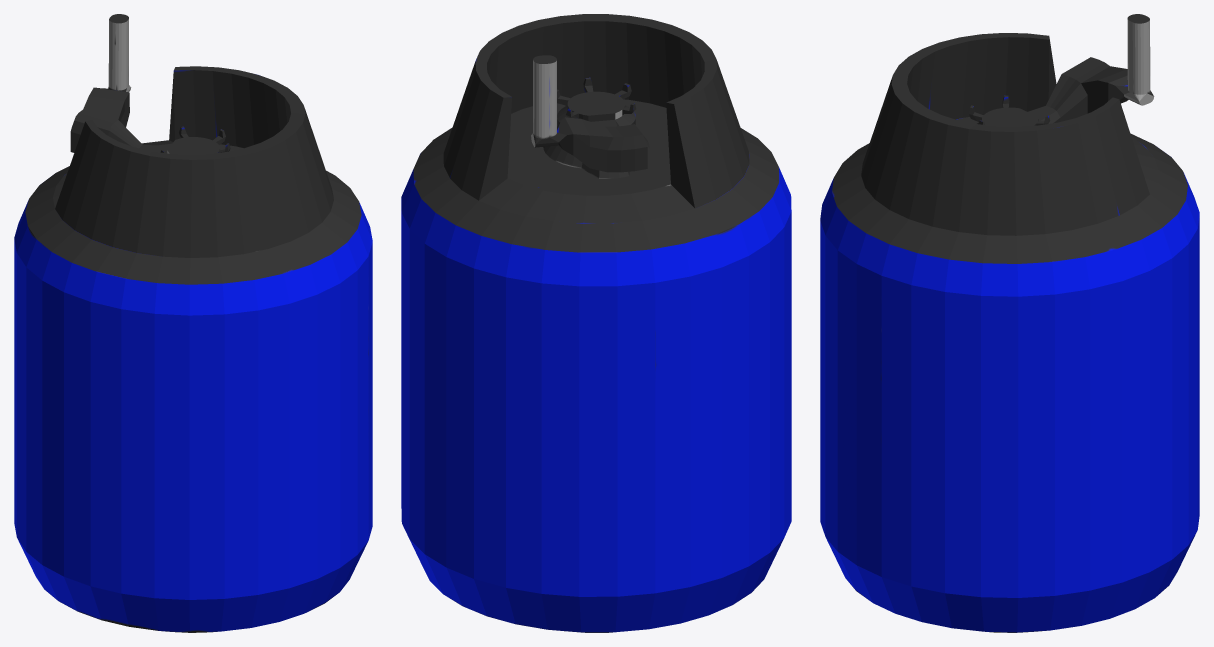
File: GasCan.fbx
The picture shows the model from 3 angles, left to right: view 1: azimuth 30°, elevation 25°; view 2: azimuth 150°, elevation 25°; view 3: azimuth 270°, elevation 25°; orthographic projection. The views are drawn at different scales.
Visible parts, largest first — view 1: GasCan; view 2: GasCan; view 3: GasCan.
Part boxes in pixels (box(x1,y1,x2,y2)): GasCan: box(14, 14, 372, 632); GasCan: box(401, 14, 791, 632); GasCan: box(820, 14, 1199, 632).
Size of the model in its own units: 12049 by 12049 by 20238.
Materials: 1 (1 with a texture image).
